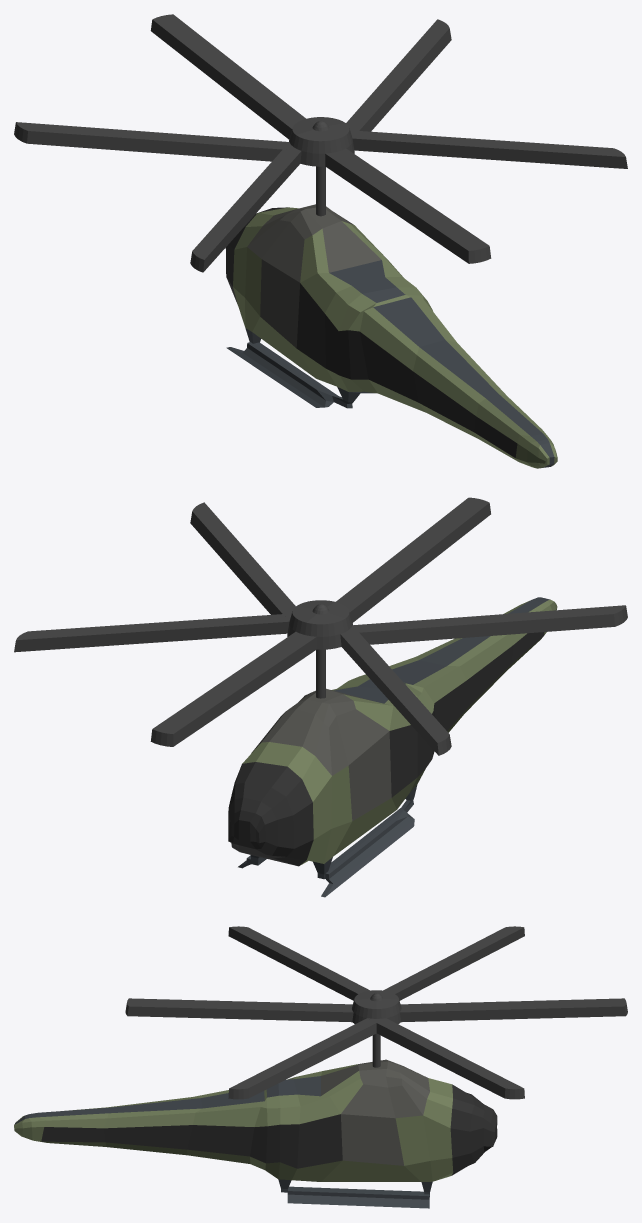
File: helicopter.glb
3 views of the same model, one above another, from view 1: azimuth 30°, elevation 25°; view 2: azimuth 150°, elevation 25°; view 3: azimuth 270°, elevation 25° (orthographic). The views are drawn at different scales.
Visible parts, largest first — view 1: body, rotor; view 2: body, rotor; view 3: body, rotor.
Boxes of the visible parts, box(x1,y1,x2,y2) form: body: box(225, 204, 557, 468); rotor: box(14, 14, 627, 272); body: box(228, 597, 557, 897); rotor: box(14, 497, 627, 755); body: box(14, 1059, 497, 1208); rotor: box(125, 926, 627, 1099).
Bounding box in the file's own units: 6.95 × 3.87 × 11.
